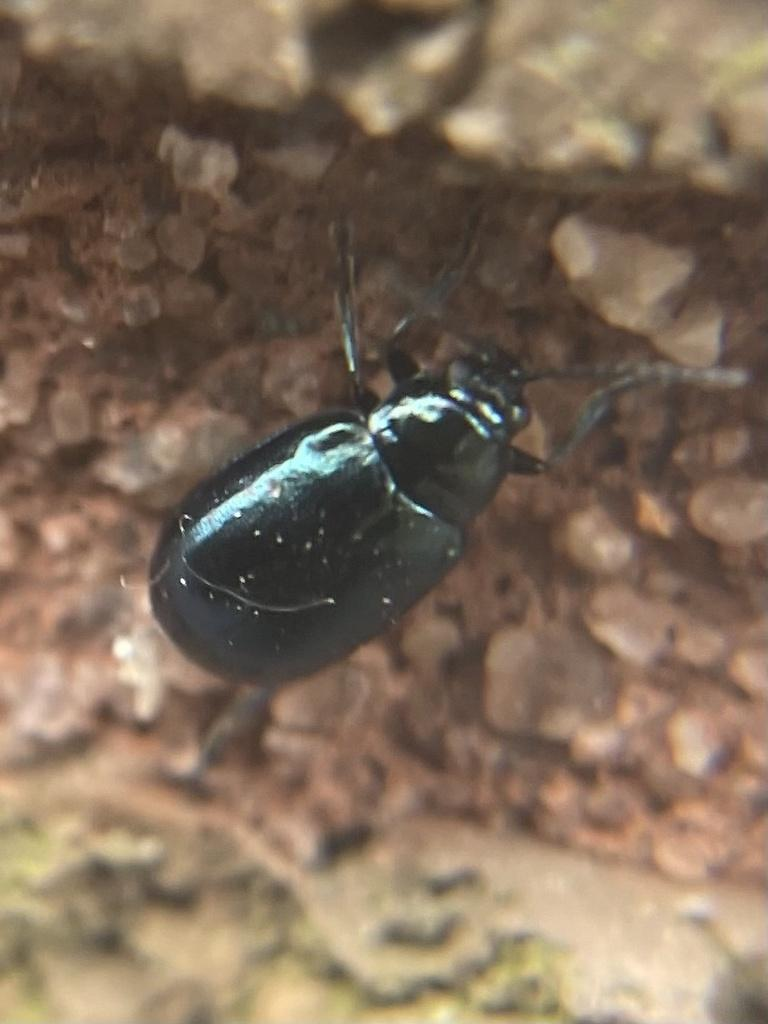flea_beetle: (0, 153, 768, 831)
